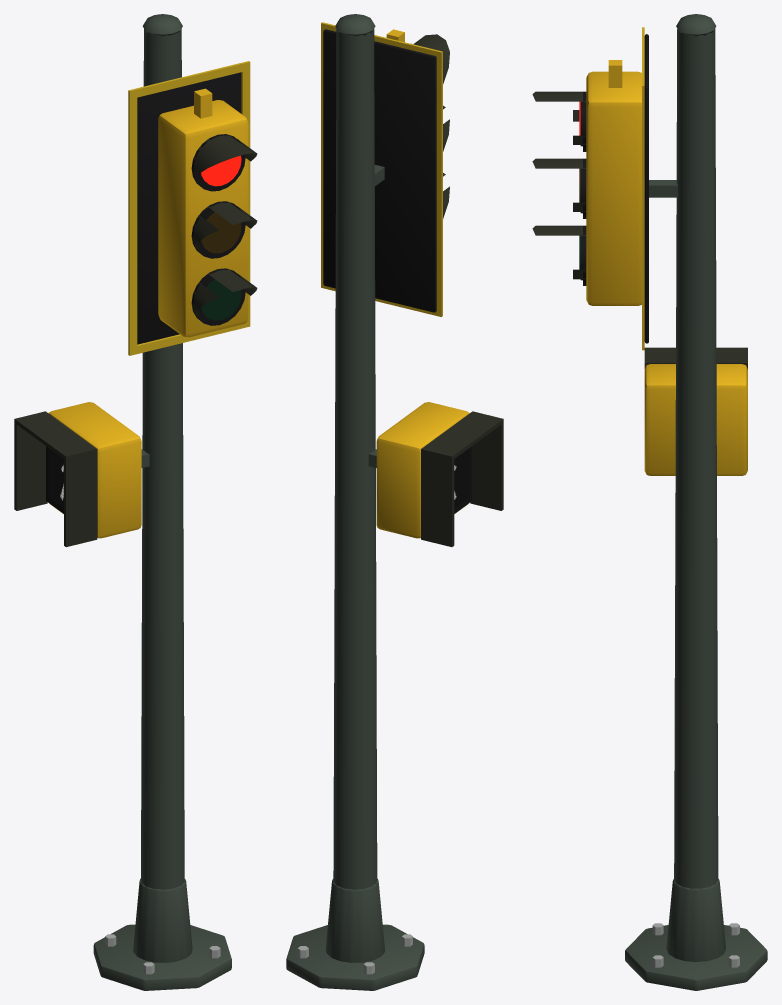
Rendered from traffic_signal_post.glb.
3 renders of one model, left to right at view 1: azimuth 30°, elevation 25°; view 2: azimuth 150°, elevation 25°; view 3: azimuth 270°, elevation 25°, orthographic.
Visible parts, largest first — view 1: body, lamp_green, lamp_amber, lamp_walk, lamp_red; view 2: body, lamp_walk; view 3: body.
Boxes of the visible parts, bbox=[...] form: body: bbox=[14, 14, 257, 990]; lamp_green: bbox=[201, 279, 241, 320]; lamp_amber: bbox=[201, 212, 241, 253]; lamp_walk: bbox=[48, 448, 63, 508]; lamp_red: bbox=[201, 155, 241, 186]; body: bbox=[286, 14, 503, 990]; lamp_walk: bbox=[454, 448, 469, 508]; body: bbox=[532, 14, 767, 990].
Size of the model in its own units: 0.9478 by 4.64 by 1.05.
12 materials, 2 textured.
